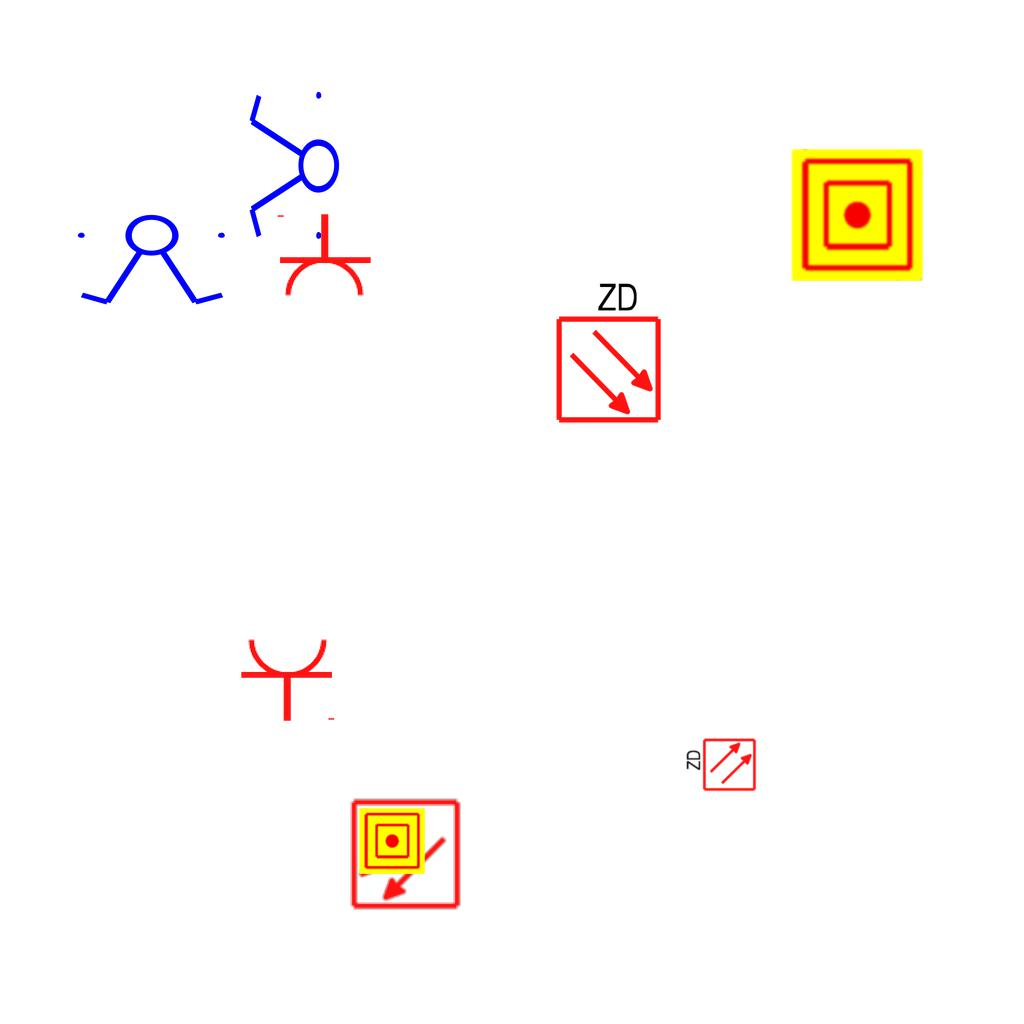NAM-Nichtautomatischer_Melder: (791, 149, 923, 281), (359, 808, 425, 874)
RMO_Rauchmelder_optischer: (349, 798, 462, 911)
Schukosteckdose_einfach: (239, 636, 339, 723), (273, 212, 373, 299)
Serienschalter: (245, 83, 341, 251), (69, 213, 237, 309)
ZD_Melder_in_Zwischendecke_mit_Revisionsoeffnung_mind_40_x_40_cm: (550, 276, 664, 425), (683, 737, 757, 794)
